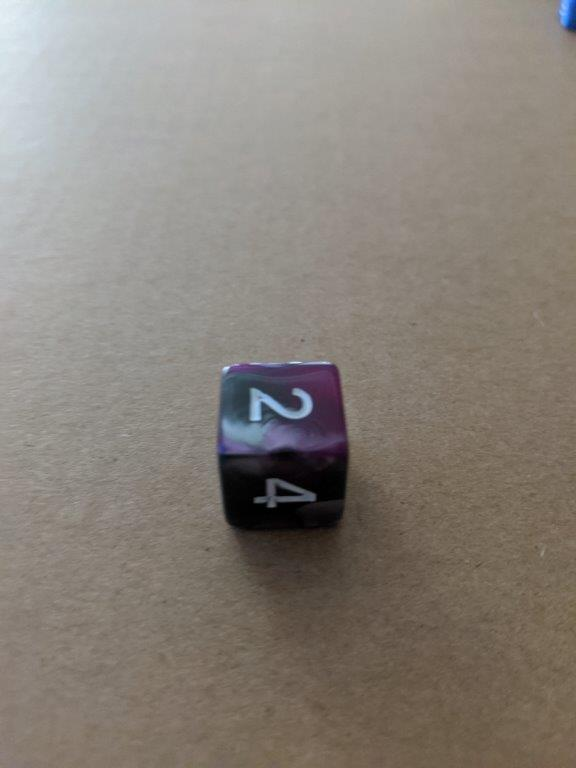d6-2: (214, 359, 352, 534)
